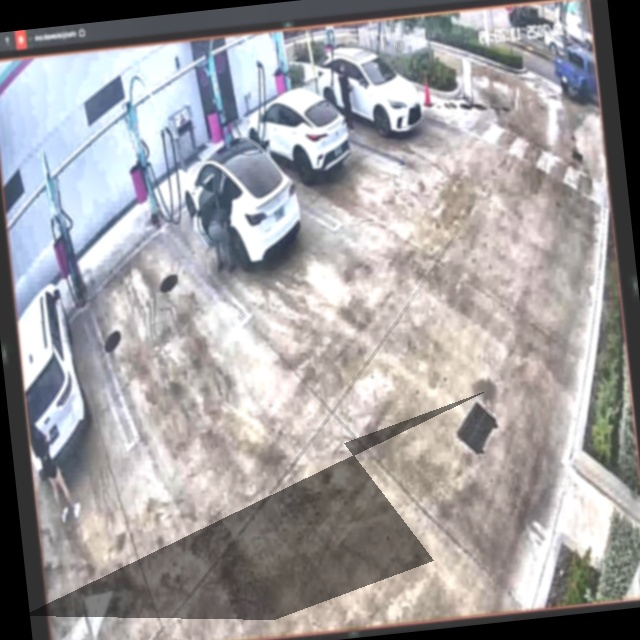Car: (177, 135, 306, 289), (246, 89, 351, 182)
